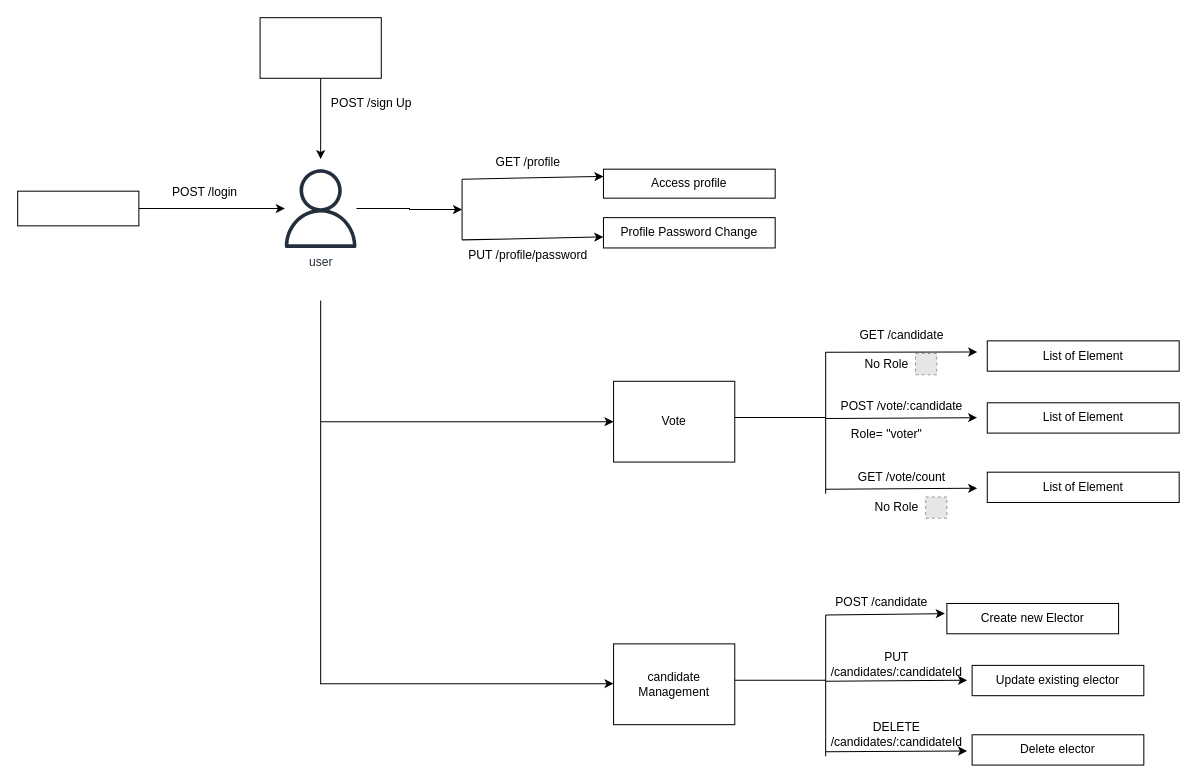
Some shapes in this 1197 by 783 pixel diagram are drawn without their labels. Grey dashed boxes stand in for pictures. The box of each missing label's shape, as (x1, y1, x2, y2) in pixels:
Create User: (259, 17, 381, 78)
Login user: (17, 190, 139, 226)
